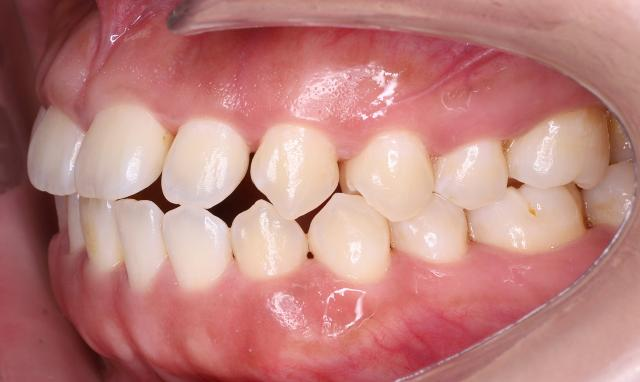canine class II 1/4: (227, 116, 393, 290)
molar class III 1/4: (462, 93, 612, 261)
